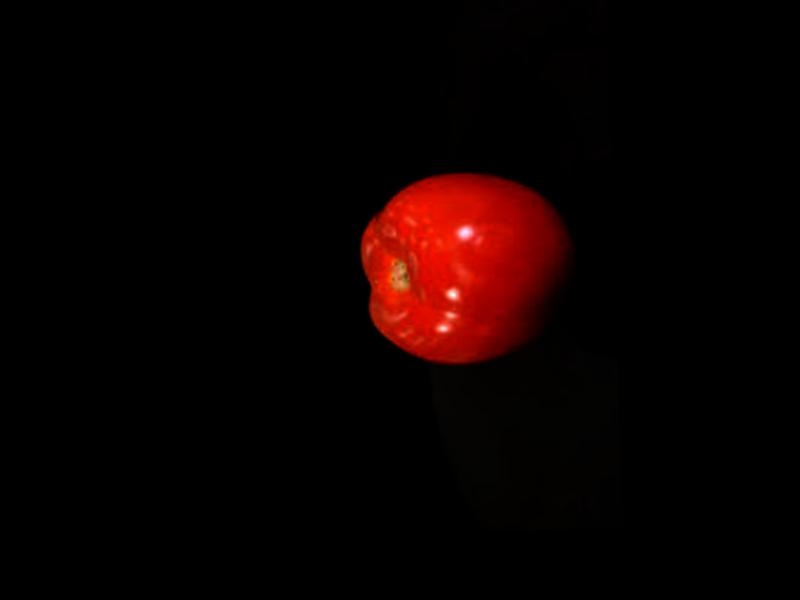Tomato: (356, 166, 575, 366)
